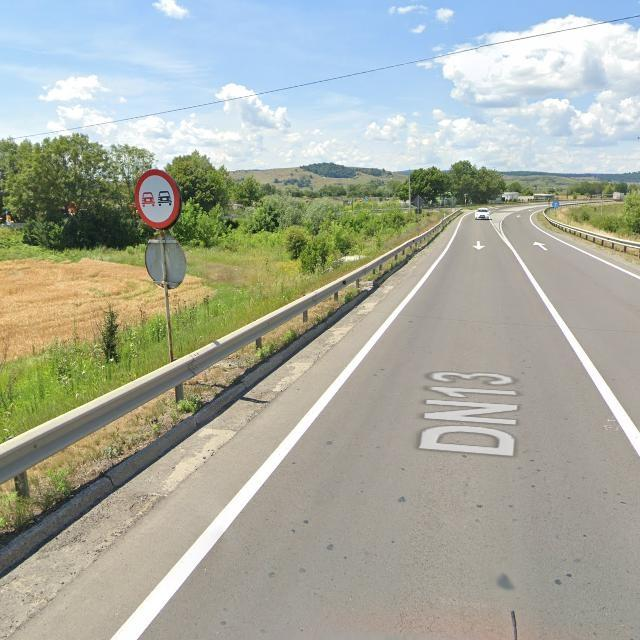forb_overtake: (136, 171, 179, 227)
